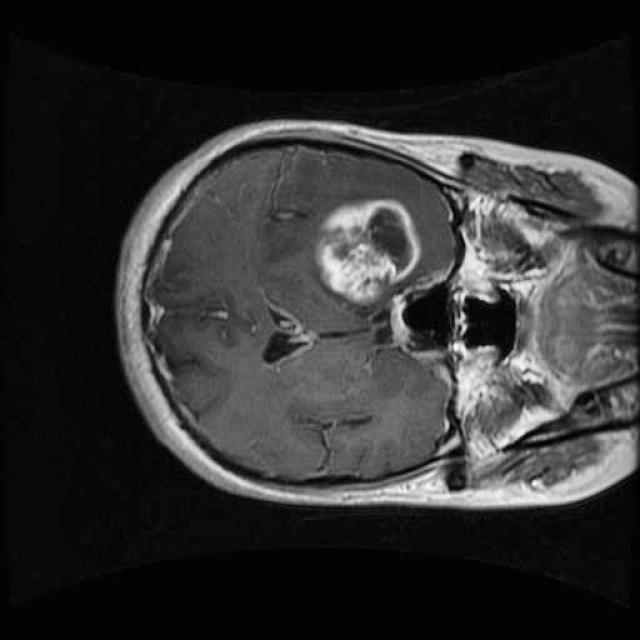Tumor: (302, 188, 432, 318)
